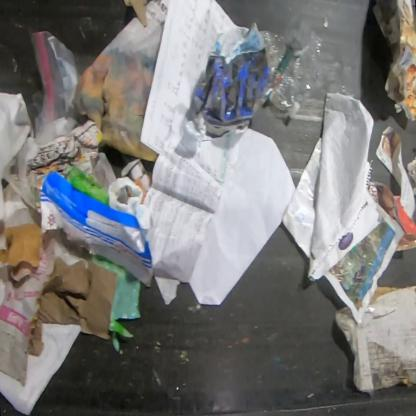cardboard: (0, 230, 91, 387), (35, 170, 154, 288), (188, 20, 275, 137), (26, 254, 118, 358), (333, 284, 415, 396), (91, 254, 142, 353), (0, 197, 45, 269), (108, 158, 152, 230), (0, 92, 41, 164), (66, 166, 110, 207), (122, 0, 148, 28)
soft_plastic: (260, 24, 326, 122), (28, 29, 80, 147), (0, 99, 39, 225)
